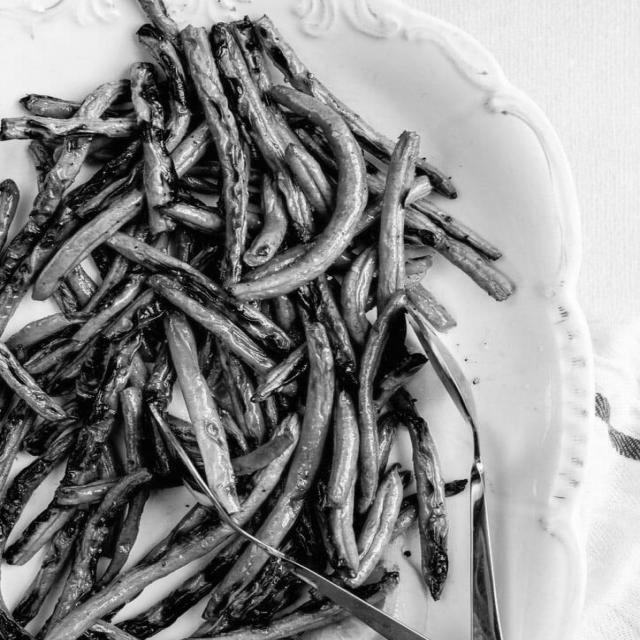Beans: (0, 9, 477, 637)
